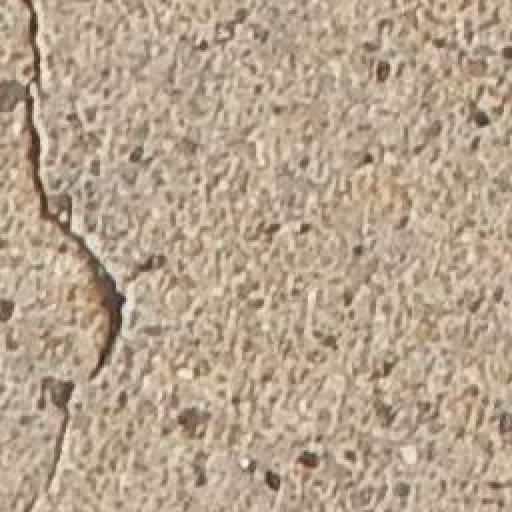spalling: (14, 0, 142, 498)
